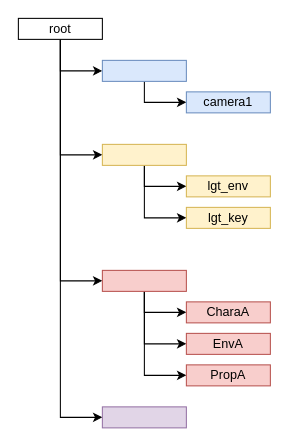
This 289x446 diagram has some shape labels left out. Each missing label, with the box of its shape:
cam: (101, 59, 186, 81)
fx: (101, 406, 186, 428)
lgt: (101, 143, 186, 165)
set: (101, 269, 186, 291)
